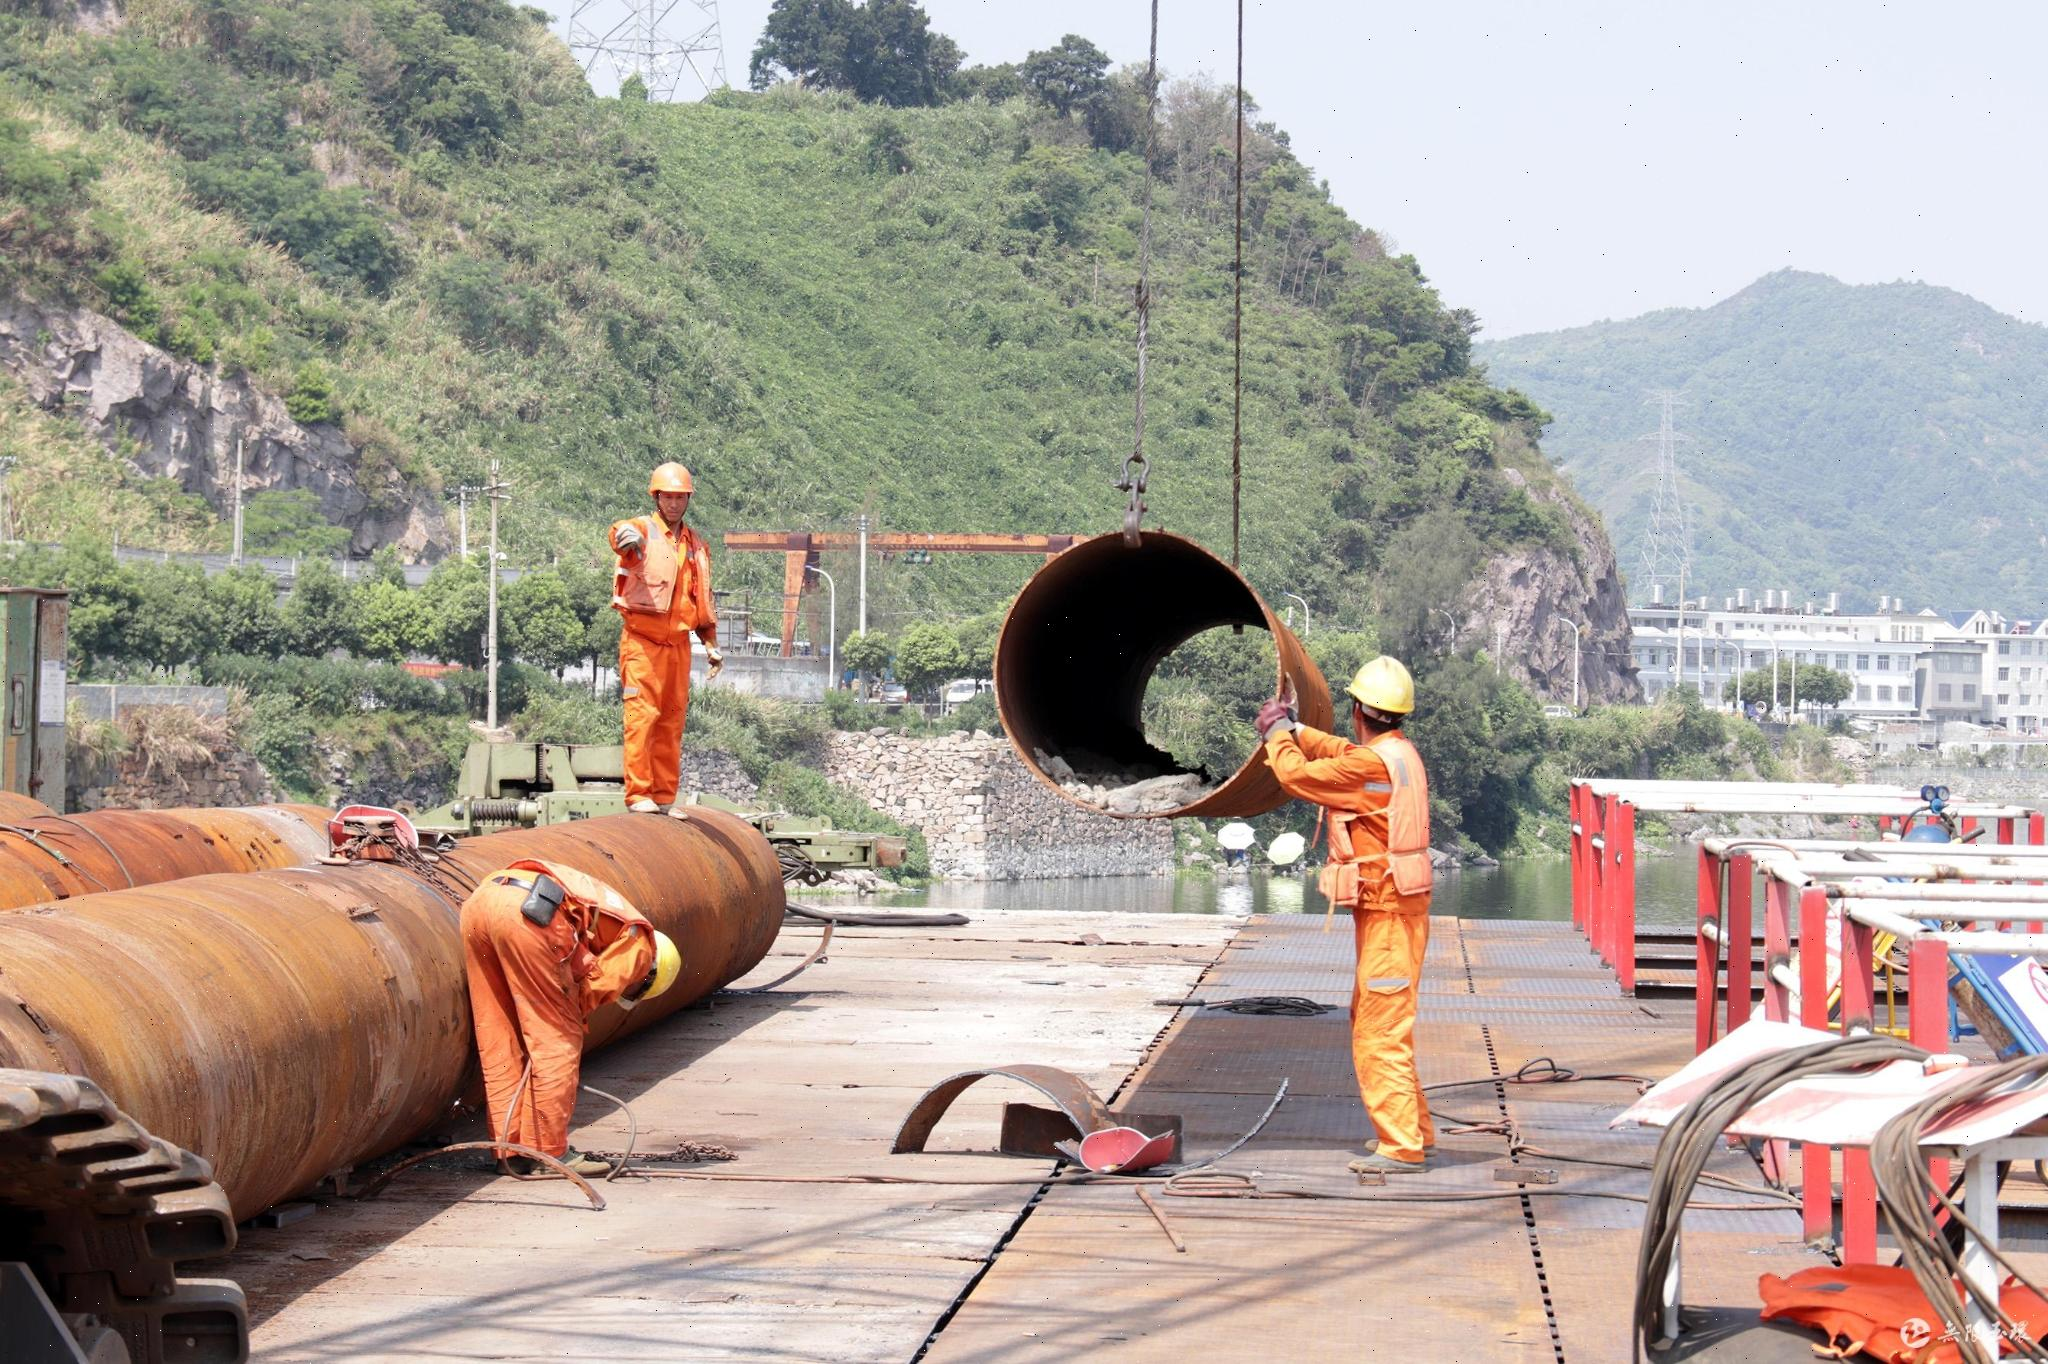helmet: (633, 916, 689, 1009), (1340, 653, 1421, 714), (645, 461, 701, 493)
wear: (1324, 740, 1436, 1155), (472, 865, 584, 1152), (612, 524, 689, 786)
